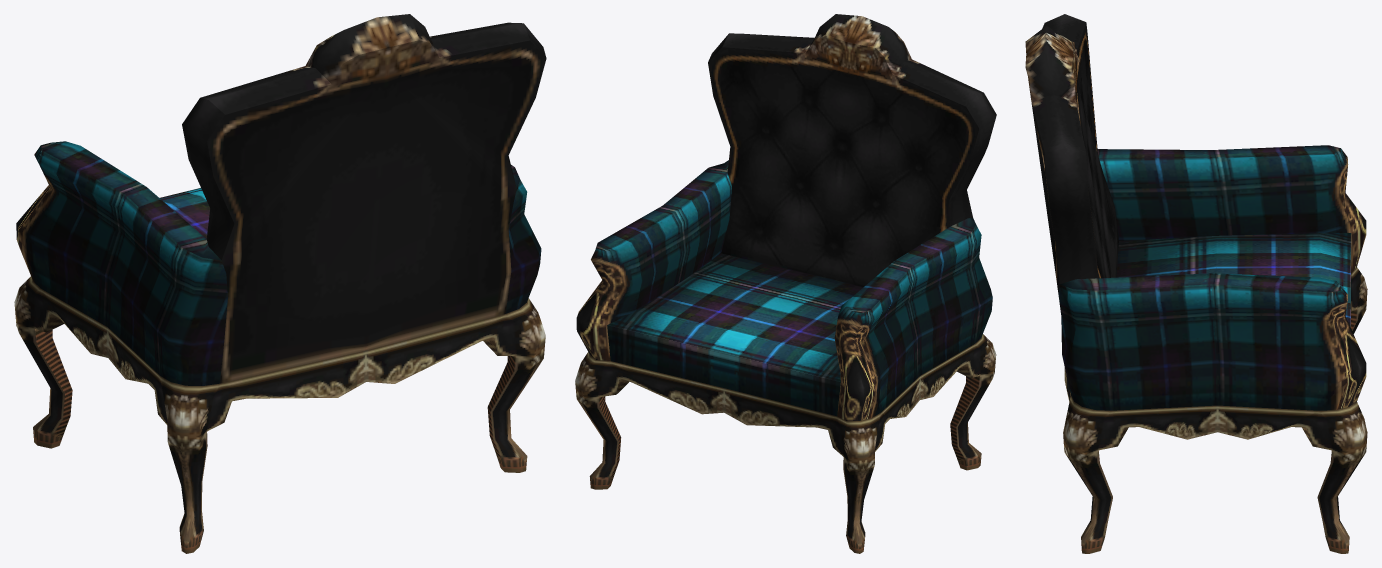
Rendered from furni_0200313_02.FBX.
The picture shows the model from 3 angles, left to right: view 1: azimuth 30°, elevation 25°; view 2: azimuth 150°, elevation 25°; view 3: azimuth 270°, elevation 25°; orthographic projection. The views are drawn at different scales.
Visible parts, largest first — view 1: furni_0200313_02; view 2: furni_0200313_02; view 3: furni_0200313_02.
Part boxes in pixels (x1,y1,x2,y2): furni_0200313_02: (14,14,546,553); furni_0200313_02: (575,14,996,553); furni_0200313_02: (1025,14,1367,553).
Bounding box in the file's own units: 80.4 × 104 × 72.55.
